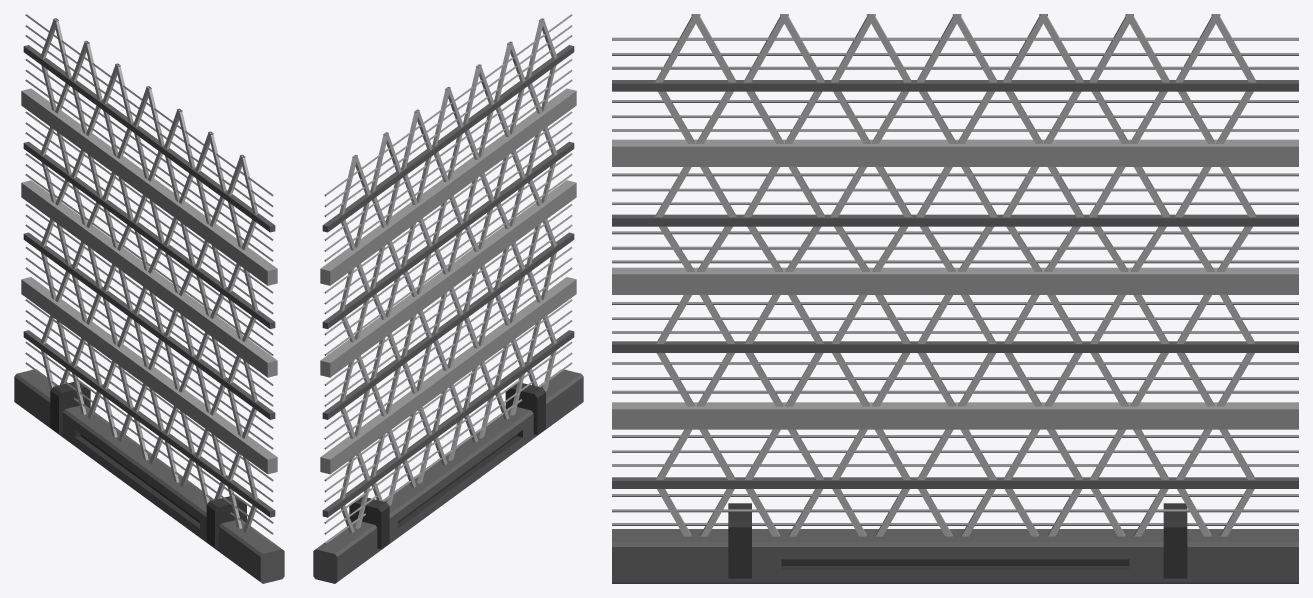
File: door_D.FBX
3 renders of one model, left to right at view 1: azimuth 30°, elevation 25°; view 2: azimuth 150°, elevation 25°; view 3: azimuth 270°, elevation 25°, orthographic. The views are drawn at different scales.
Parts seen in each view (by area): view 1: door_D; view 2: door_D; view 3: door_D.
Boxes of the visible parts, x1=… form: door_D: x1=14, y1=14, x2=284, y2=583; door_D: x1=313, y1=14, x2=583, y2=583; door_D: x1=612, y1=14, x2=1298, y2=583.
Size of the model in its own units: 14.12 by 171 by 189.
